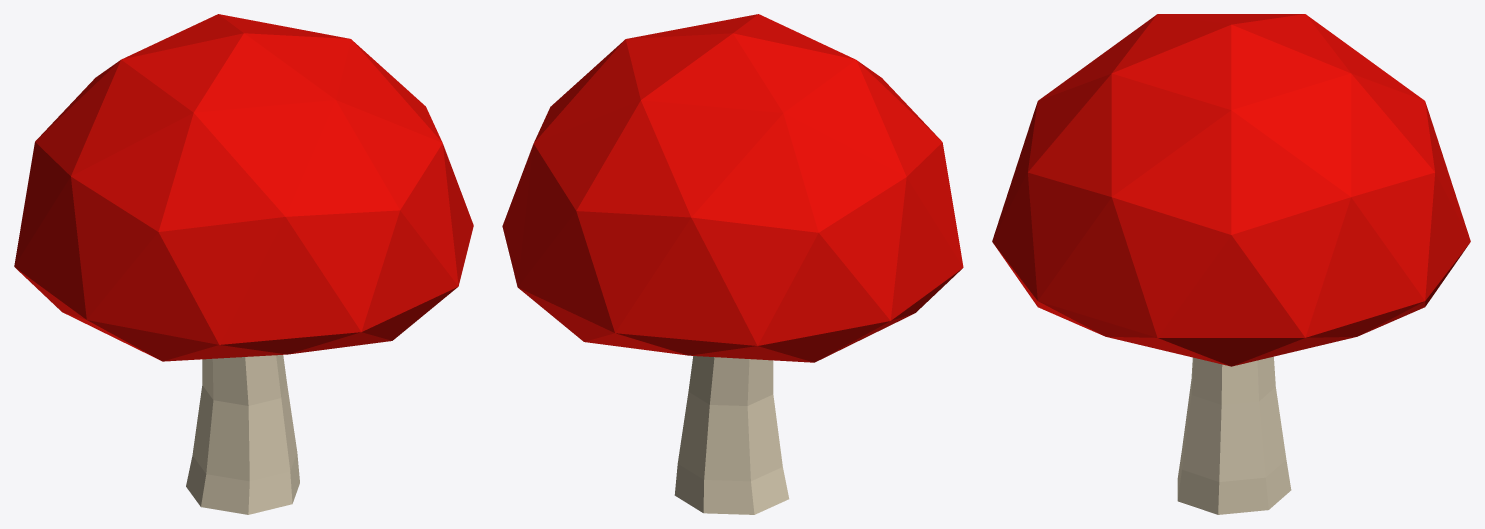
File: mushroom.fbx
3 views of the same model, side by side, from view 1: azimuth 30°, elevation 25°; view 2: azimuth 150°, elevation 25°; view 3: azimuth 270°, elevation 25° (orthographic).
Visible parts, largest first — view 1: Icosphere; view 2: Icosphere; view 3: Icosphere.
Part boxes in pixels (<box>): Icosphere: <box>14,14,473,514</box>; Icosphere: <box>502,14,963,514</box>; Icosphere: <box>992,14,1470,514</box>.
Bounding box in the file's own units: 76.08 × 80 × 85.84.
